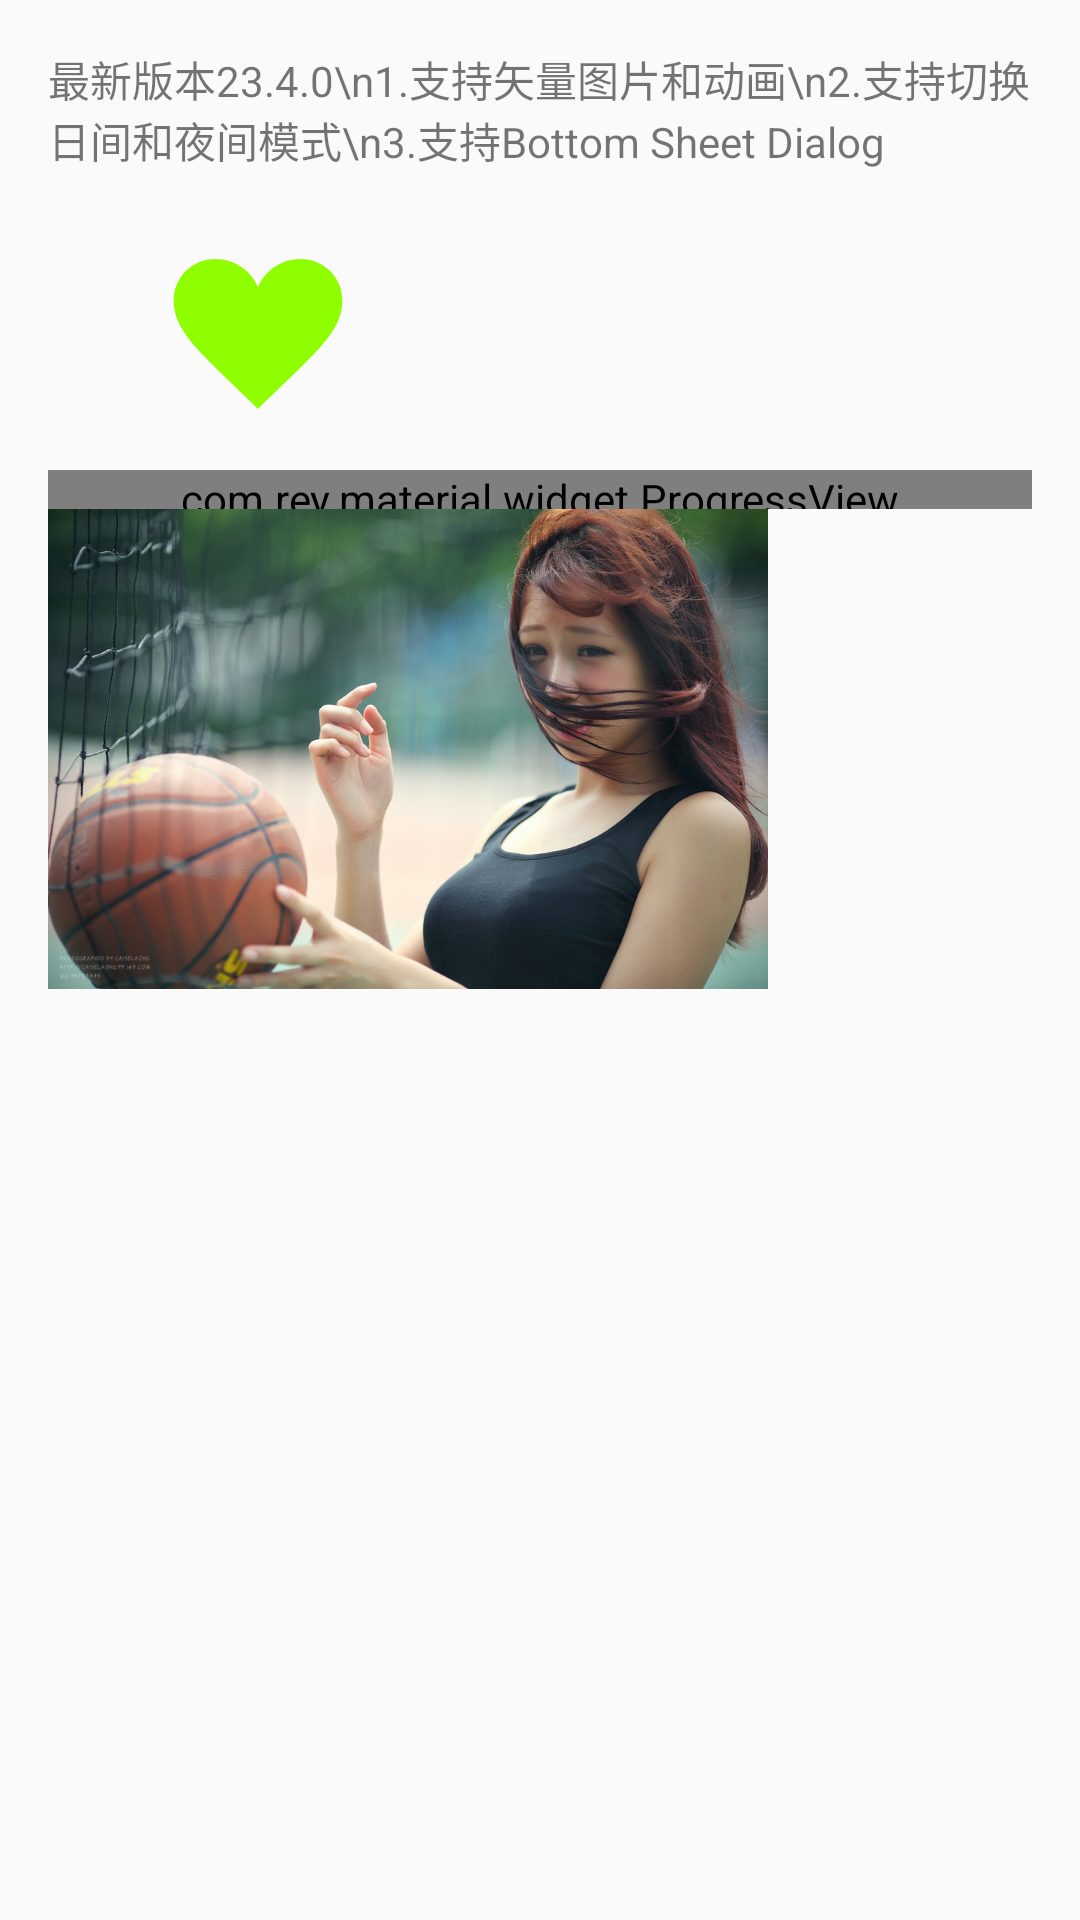

Locate icon controls on the screen. Image size 1080x1920, boxes as (x1, y1, x2, y2).
heart: (173, 259, 343, 409)
